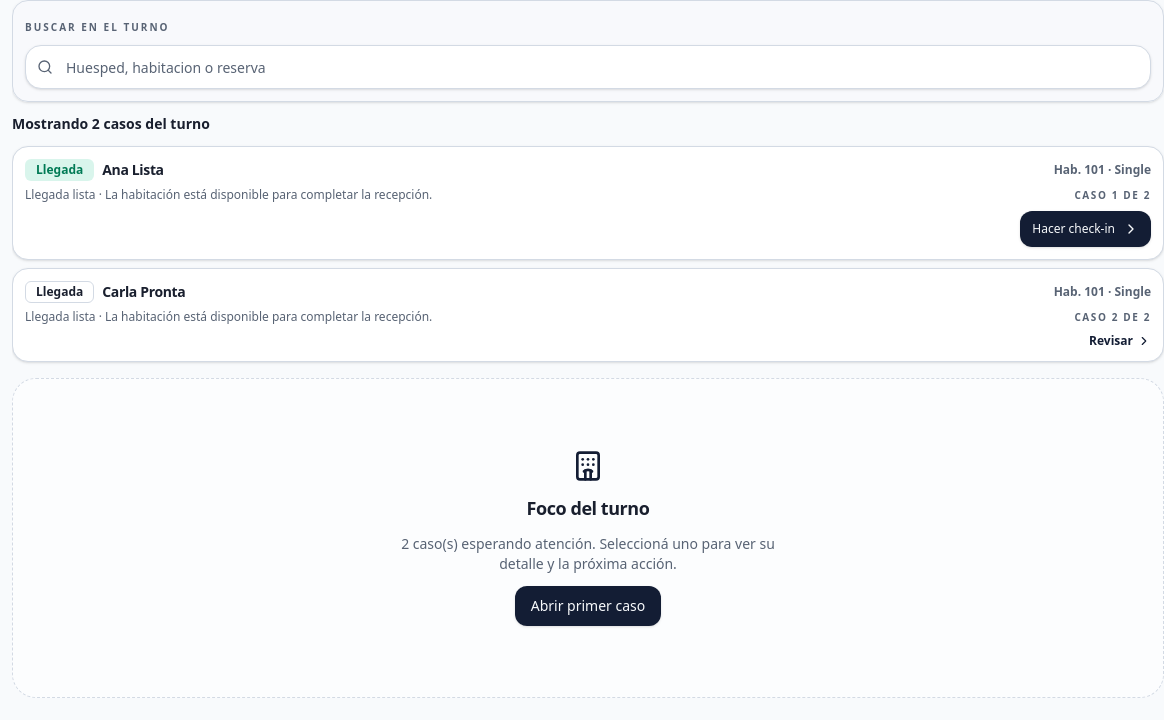
Test: ReceptionShiftView › shows the no-match state when the search has no results
The width and height of the screenshot is (1164, 720).
In the search field labelled "Buscar en el turno": (588, 67) [25, 45, 1151, 89], type "caso inexistente zzz"
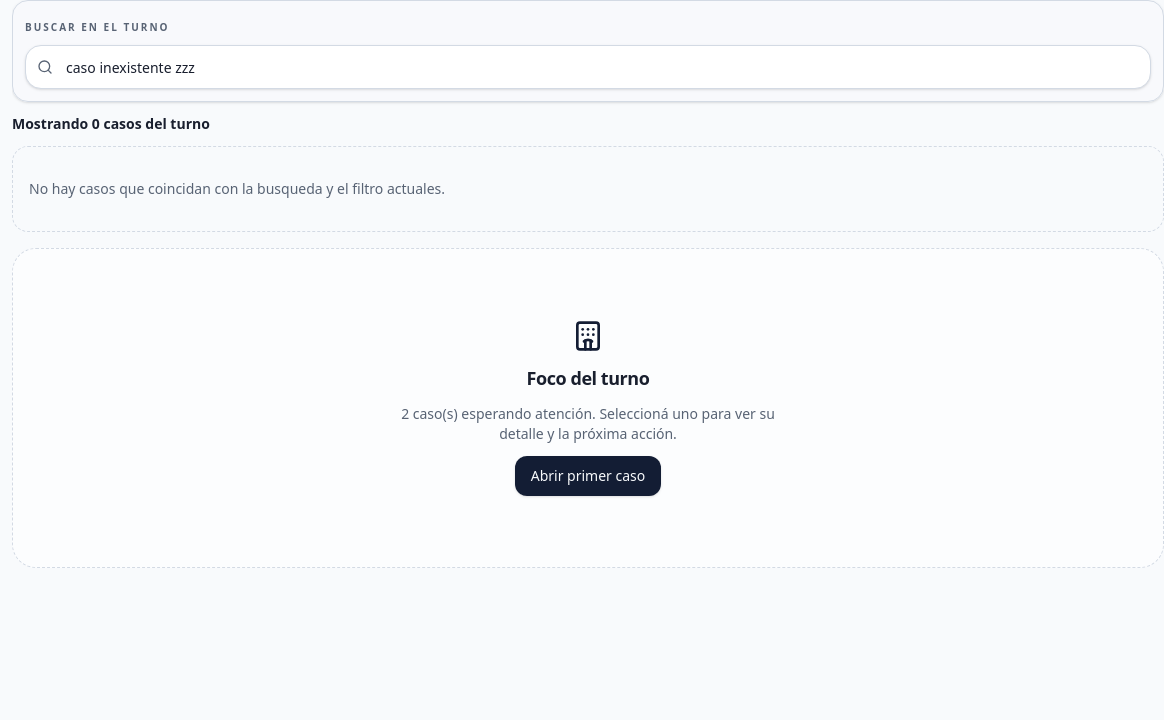
expect the text "No hay casos que coincidan con la busqueda y el filtro actuales" is shown: met, box [29, 179, 445, 198]
